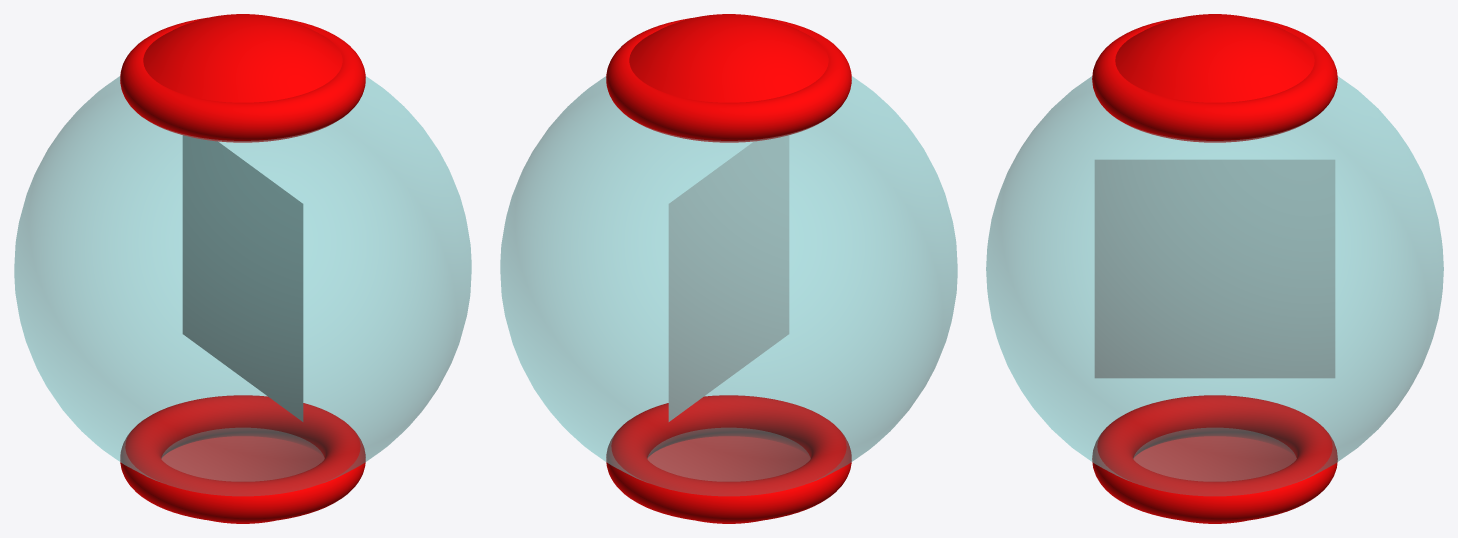
Rendered from ItemCapsule_Air.fbx.
3 renders of one model, left to right at view 1: azimuth 30°, elevation 25°; view 2: azimuth 150°, elevation 25°; view 3: azimuth 270°, elevation 25°, orthographic.
Parts seen in each view (by area): view 1: Main, Icon, Cap1, Cap2; view 2: Main, Icon, Cap1, Cap2; view 3: Main, Icon, Cap1, Cap2.
Boxes of the visible parts, x1=… form: Main: x1=14, y1=76, x2=471, y2=495; Icon: x1=182, y1=135, x2=303, y2=421; Cap1: x1=120, y1=14, x2=365, y2=142; Cap2: x1=120, y1=395, x2=365, y2=523; Main: x1=500, y1=76, x2=957, y2=495; Icon: x1=668, y1=135, x2=789, y2=421; Cap1: x1=606, y1=14, x2=851, y2=142; Cap2: x1=606, y1=395, x2=851, y2=523; Main: x1=986, y1=76, x2=1443, y2=495; Icon: x1=1094, y1=159, x2=1335, y2=378; Cap1: x1=1092, y1=14, x2=1337, y2=142; Cap2: x1=1092, y1=395, x2=1337, y2=523.
Size of the model in its own units: 380 by 440 by 380.
